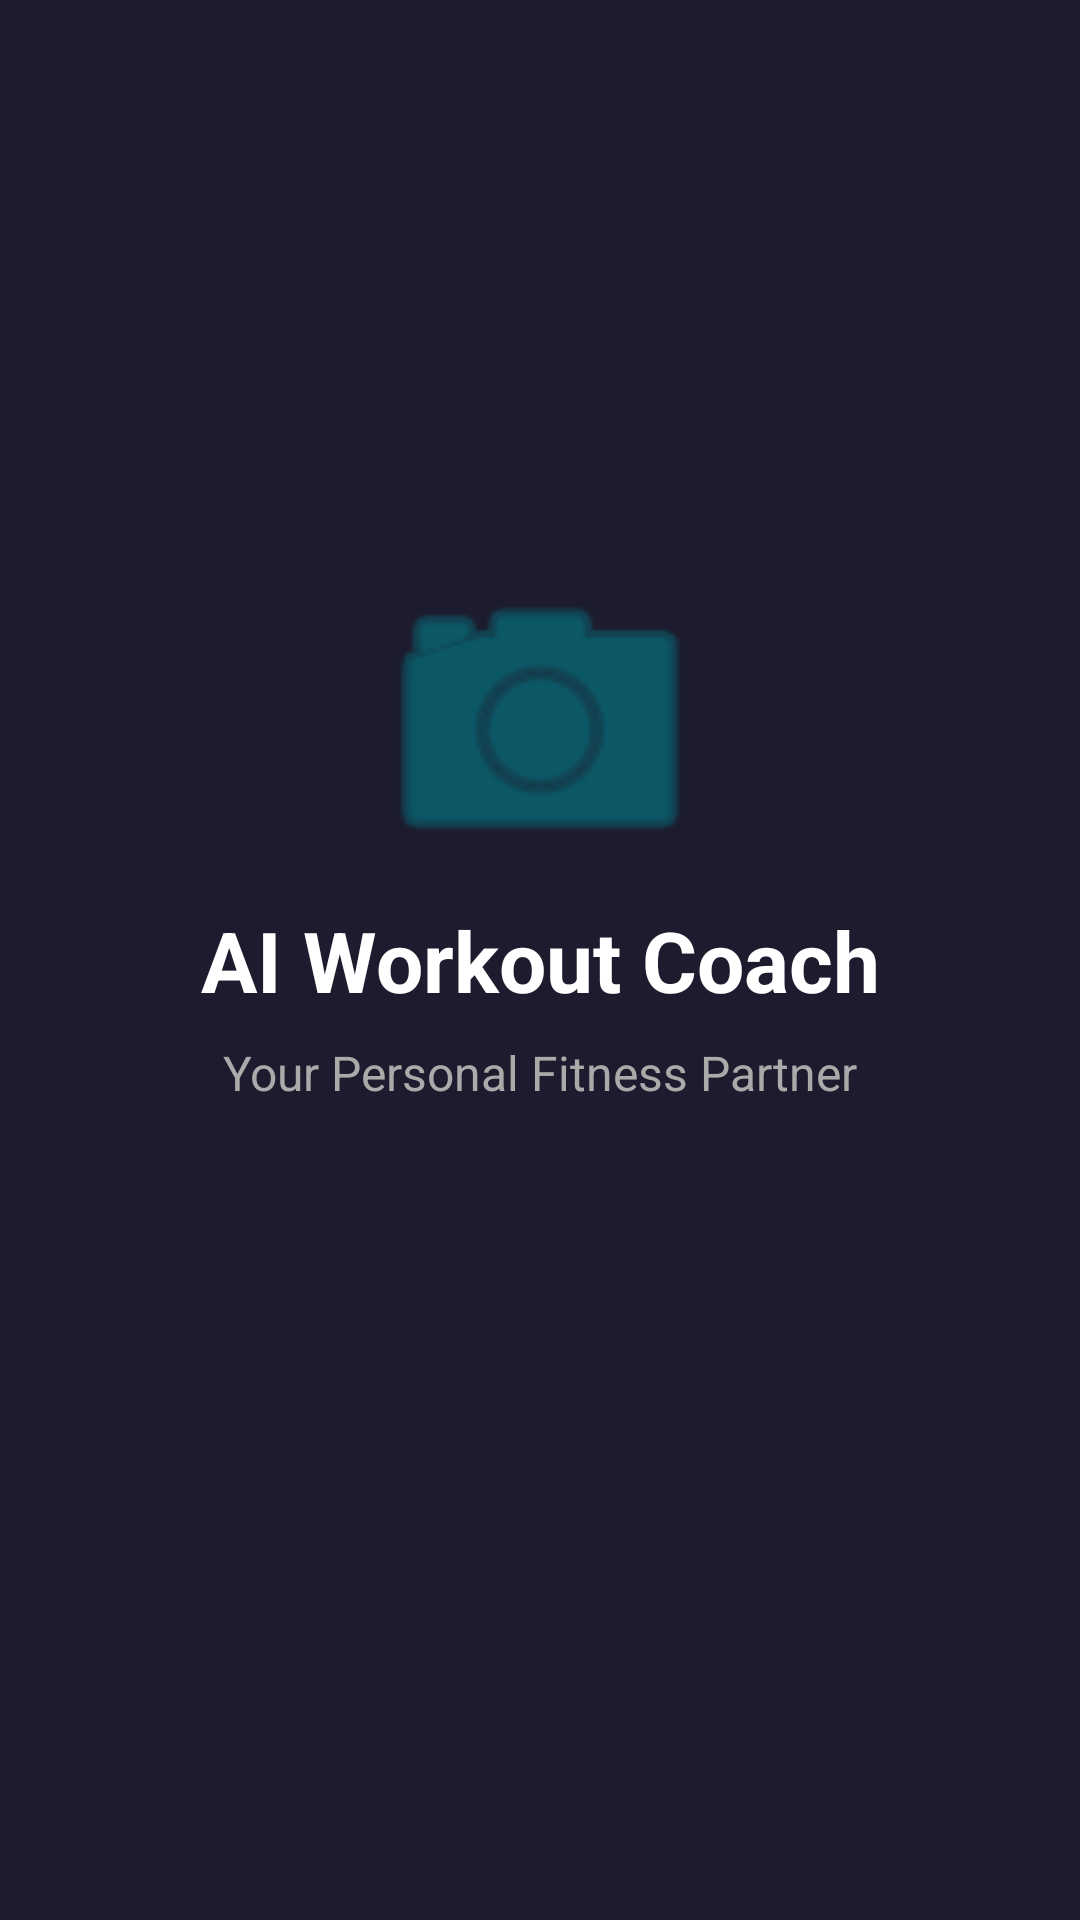

Locate icon controls on the screen. Image size 1080px×1920px, boxes as (x1, y1, x2, y2).
camera: (403, 609, 677, 827)
